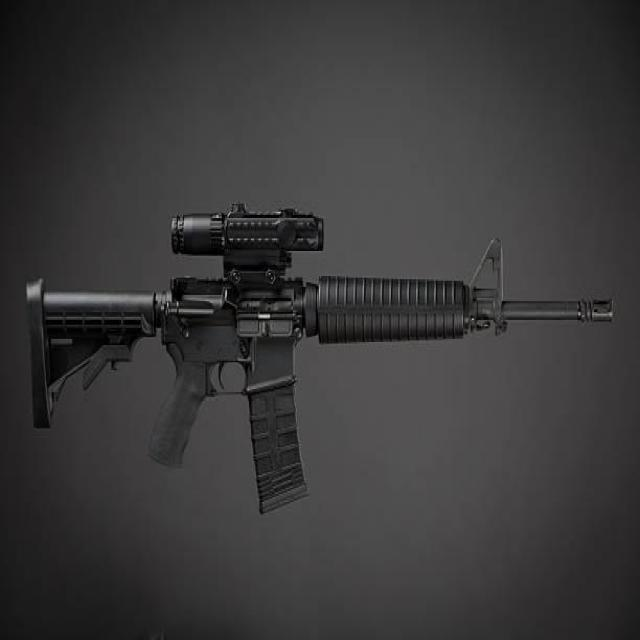Rifle: (25, 201, 613, 517)
